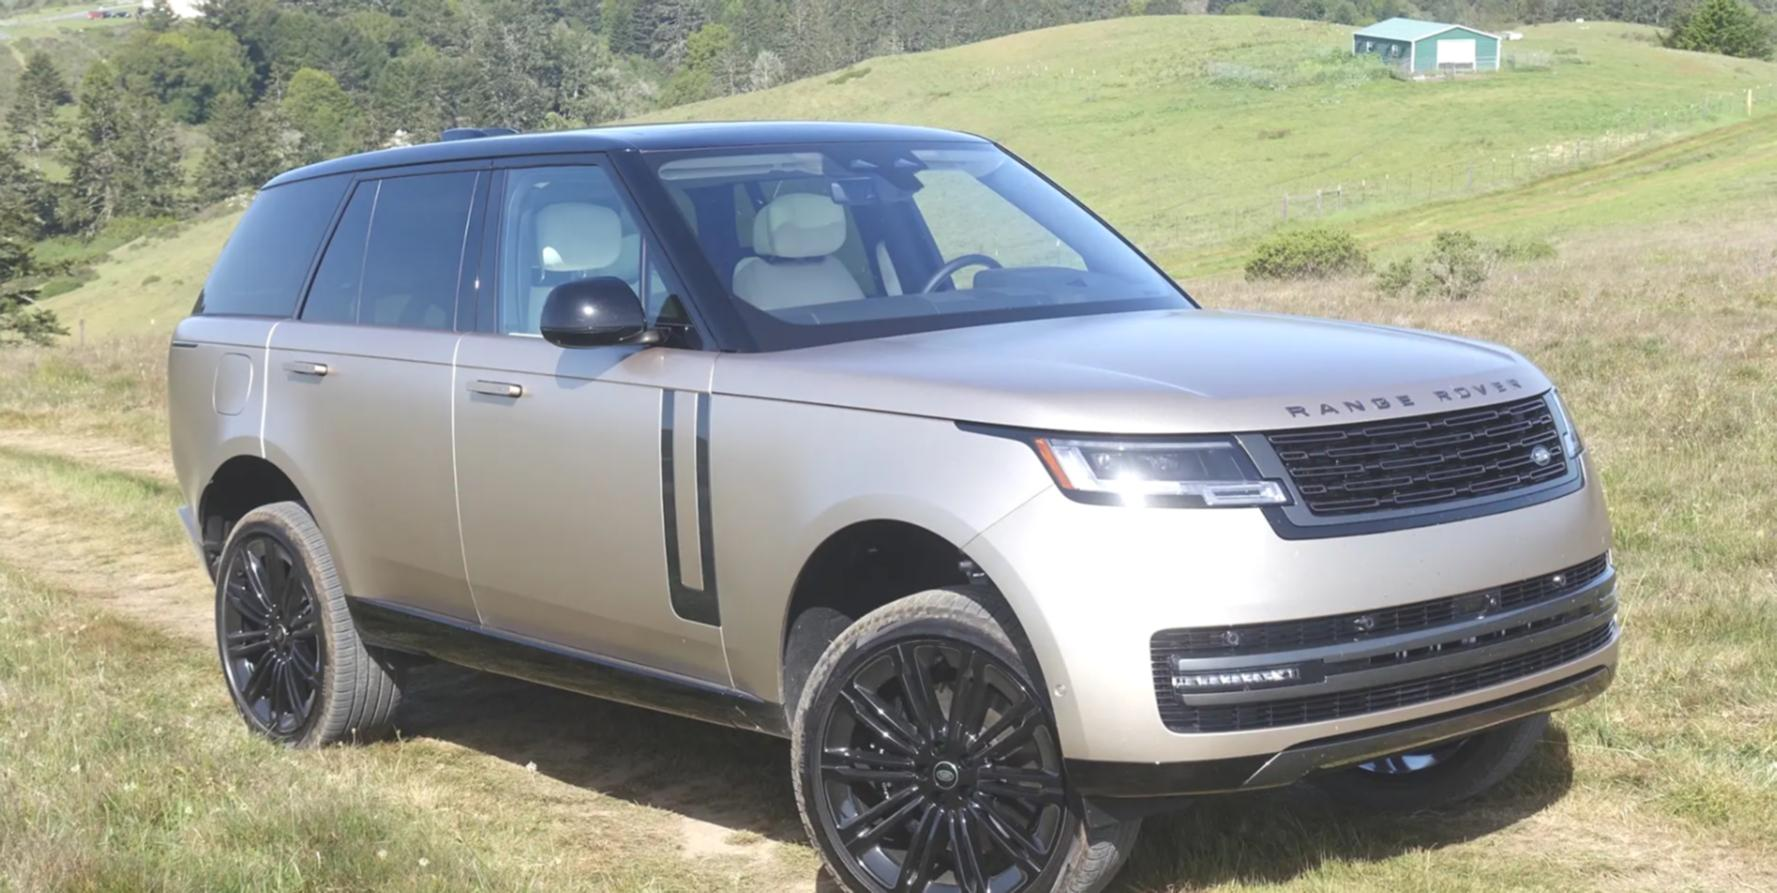range rover: (1280, 370, 1532, 436)
